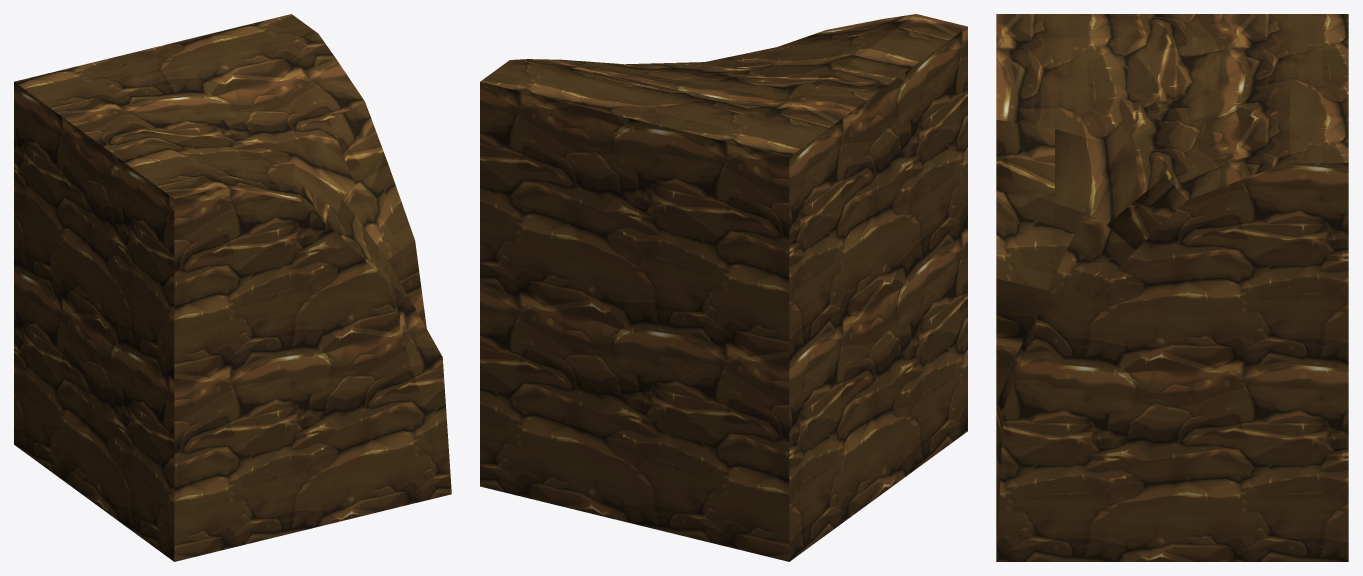
File: Mountain_L_1x1x3.fbx
3 renders of one model, left to right at view 1: azimuth 30°, elevation 25°; view 2: azimuth 150°, elevation 25°; view 3: azimuth 270°, elevation 25°, orthographic. The views are drawn at different scales.
Visible parts, largest first — view 1: Mountain_L_1x1x3; view 2: Mountain_L_1x1x3; view 3: Mountain_L_1x1x3.
Boxes of the visible parts, x1,y1,x2,y2 form: Mountain_L_1x1x3: (14,14,451,561); Mountain_L_1x1x3: (480,14,967,561); Mountain_L_1x1x3: (996,14,1348,561).
Size of the model in its own units: 3 by 3 by 3.75.
